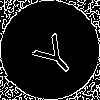Y: (25, 25, 81, 81)
